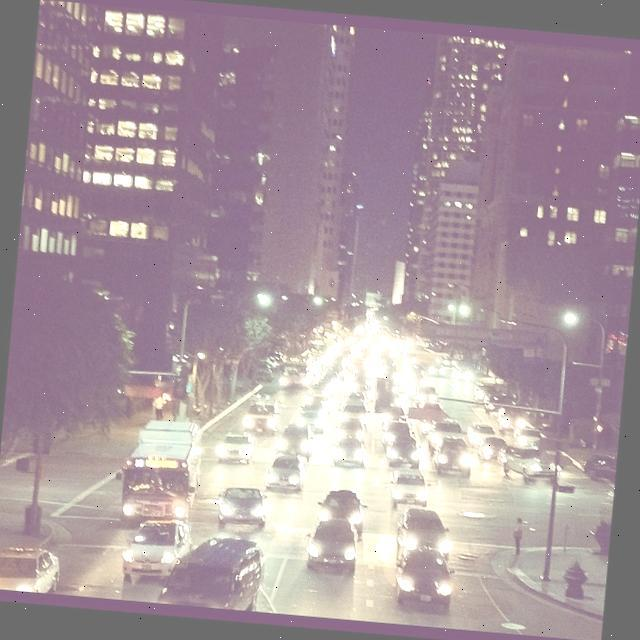fire_hydrant: (561, 559, 590, 599)
